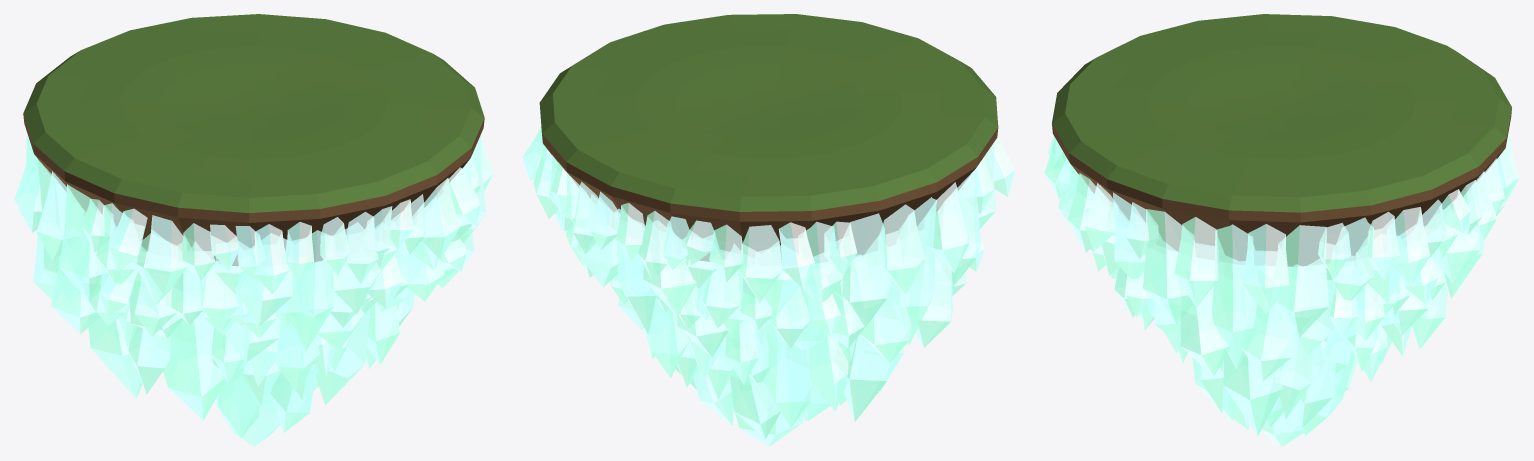
File: kristall_Insel_Prototyp.fbx
3 views of the same model, side by side, from view 1: azimuth 30°, elevation 25°; view 2: azimuth 150°, elevation 25°; view 3: azimuth 270°, elevation 25° (orthographic).
Visible parts, largest first — view 1: Insel3; view 2: Insel3; view 3: Insel3.
Part boxes in pixels (box(x1,y1,x2,y2)): Insel3: box(14, 14, 493, 446); Insel3: box(522, 14, 1015, 446); Insel3: box(1044, 14, 1519, 446).
Bounding box in the file's own units: 5.41 × 4.26 × 5.33.
